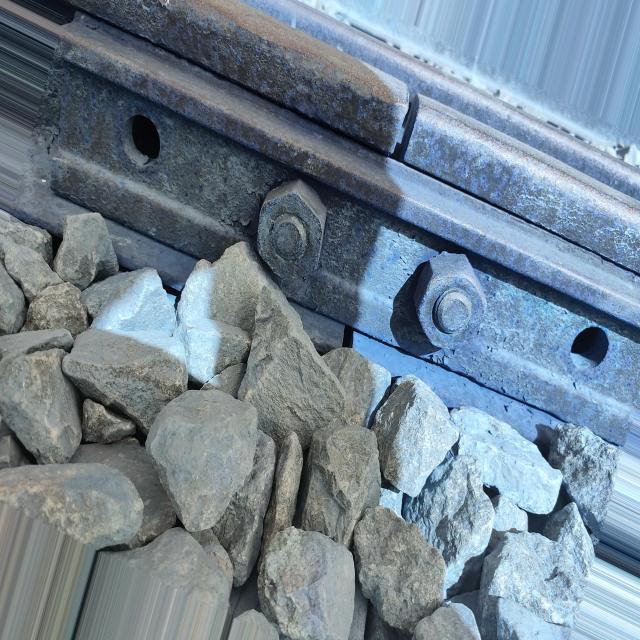Defective Joint: (15, 0, 640, 445)
